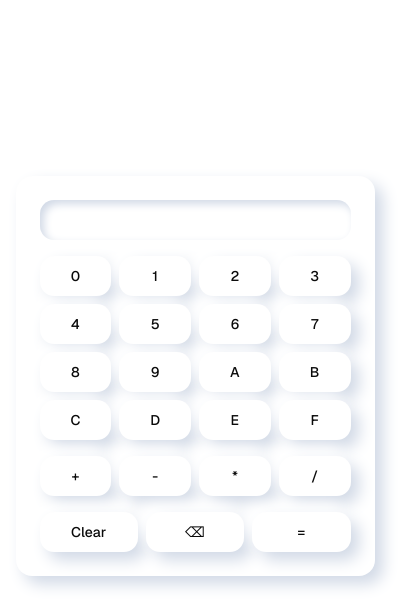
Hex Calculator - Logic & Edge Case Tests › shows error for invalid subtraction (1A - 2B)
Click the button "1" at (155, 276), box x1=119 y1=256 x2=191 y2=296
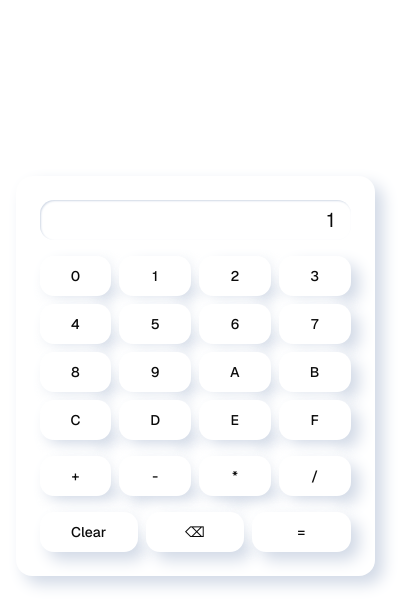
Click the button "A" at (235, 372), box x1=199 y1=352 x2=271 y2=392
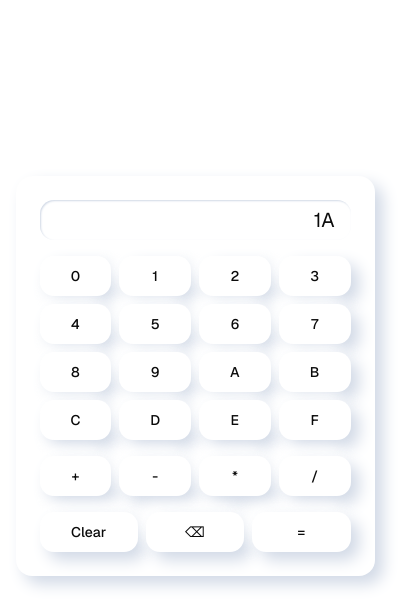
Click the button "-" at (155, 476), box x1=119 y1=456 x2=191 y2=496
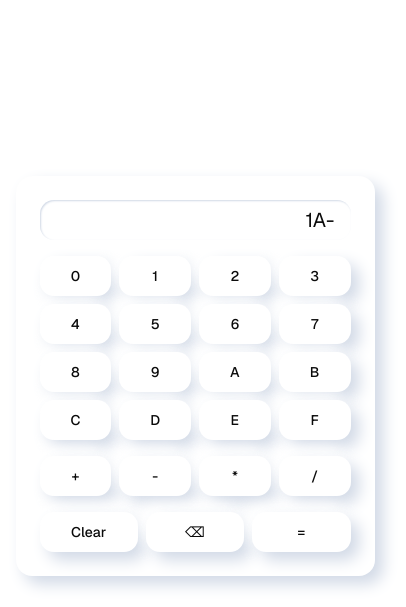
Click the button "2" at (235, 276), box x1=199 y1=256 x2=271 y2=296
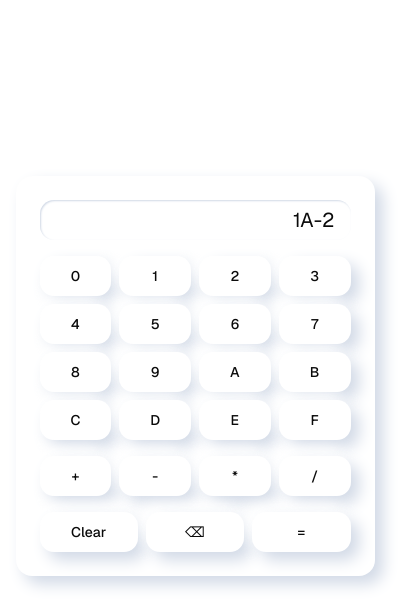
Click the button "B" at (315, 372), box x1=279 y1=352 x2=351 y2=392
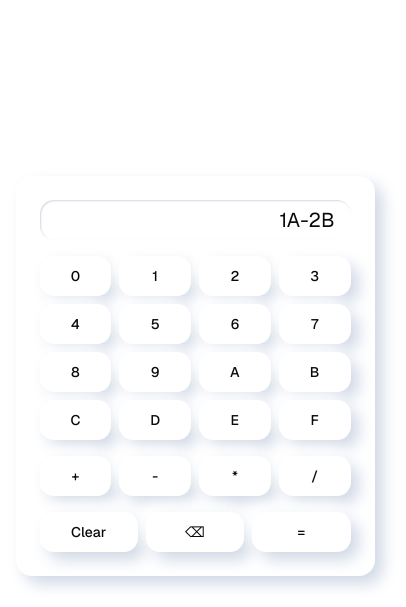
Click the button "=" at (301, 532), box x1=252 y1=512 x2=350 y2=552
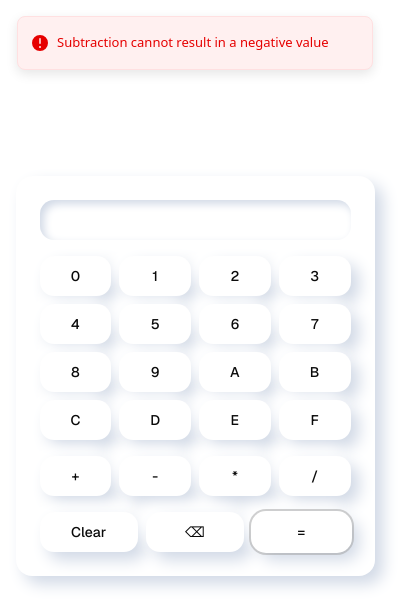
Expected: the list item "Subtraction cannot result in a negative value" is shown, x1=17 y1=16 x2=373 y2=70
